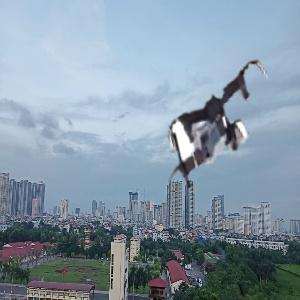drone: (152, 60, 285, 193)
